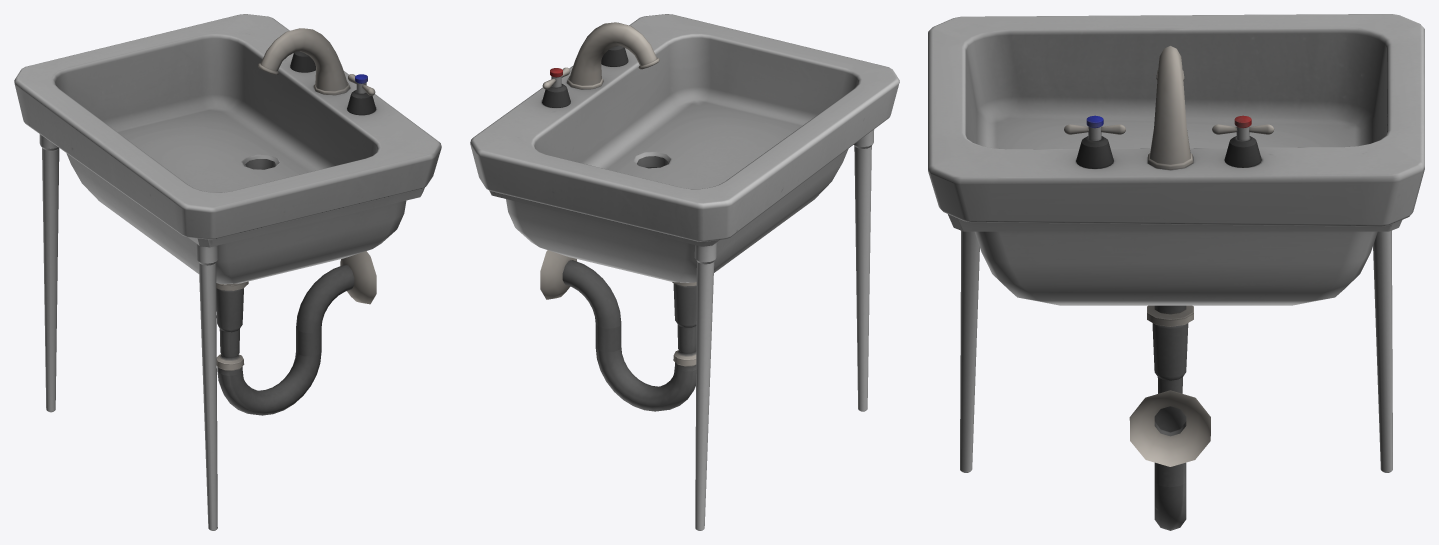
The model's file is SM_Bathroom_Sink.fbx.
The picture shows the model from 3 angles, left to right: view 1: azimuth 30°, elevation 25°; view 2: azimuth 150°, elevation 25°; view 3: azimuth 270°, elevation 25°; orthographic projection. The views are drawn at different scales.
Visible parts, largest first — view 1: SM_Bathroom_Sink_LOD0; view 2: SM_Bathroom_Sink_LOD0; view 3: SM_Bathroom_Sink_LOD0.
Boxes of the visible parts, <box> form: SM_Bathroom_Sink_LOD0: <box>14,14,441,530</box>; SM_Bathroom_Sink_LOD0: <box>470,14,899,530</box>; SM_Bathroom_Sink_LOD0: <box>928,14,1424,530</box>.
Bounding box in the file's own units: 101 × 129 × 150.
1 material, 1 textured.
